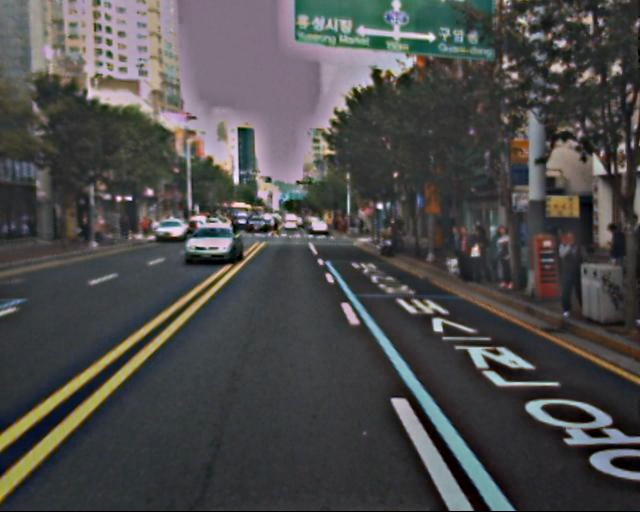person: (552, 235, 586, 319), (600, 224, 630, 296), (489, 226, 518, 296), (467, 226, 492, 287), (452, 226, 475, 283), (447, 228, 466, 275)
